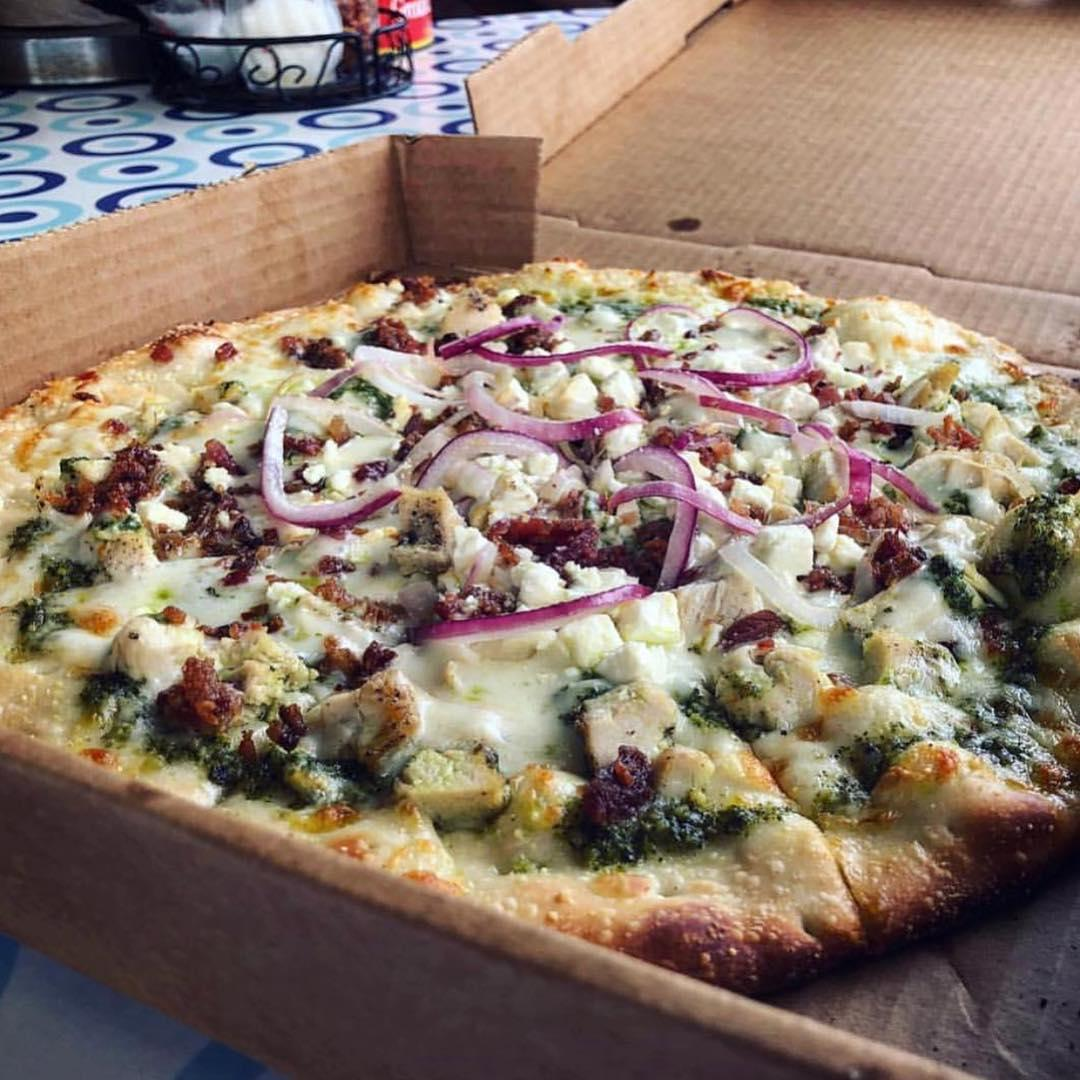Chicken: (969, 487, 1080, 622), (723, 628, 858, 730), (376, 733, 515, 828), (304, 669, 427, 775), (573, 667, 685, 757), (886, 444, 1030, 514), (110, 598, 210, 688), (491, 760, 602, 840), (389, 480, 469, 580), (975, 413, 1053, 498), (626, 579, 704, 657), (737, 437, 811, 512), (530, 365, 644, 413), (464, 446, 538, 518), (958, 399, 1046, 458), (87, 514, 165, 578), (649, 737, 719, 807), (856, 629, 934, 683), (557, 608, 621, 662)
Onion: (248, 404, 412, 550), (405, 577, 646, 654), (598, 472, 856, 542), (797, 399, 947, 518), (603, 435, 703, 596), (446, 368, 648, 446), (618, 361, 804, 442), (413, 315, 685, 369), (718, 536, 851, 638), (409, 425, 568, 510), (315, 346, 501, 416), (665, 305, 813, 390), (890, 442, 1044, 503), (831, 384, 964, 433), (442, 527, 503, 596)
Pizza: (0, 258, 1080, 994)
